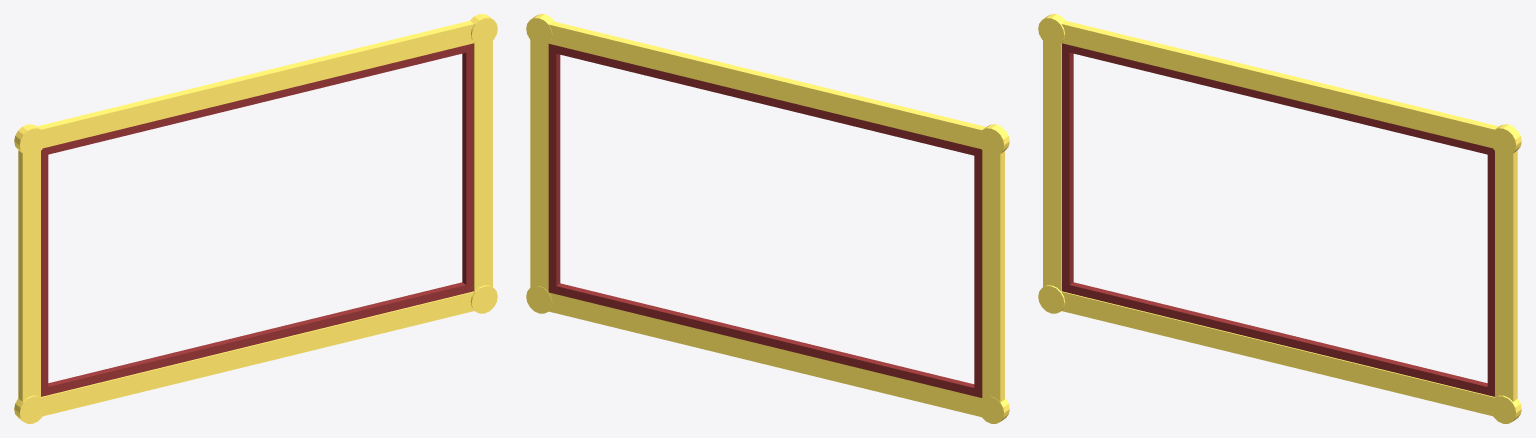
File: wall_lacquer_frame_3d.glb
The picture shows the model from 3 angles, left to right: view 1: azimuth 30°, elevation 25°; view 2: azimuth 150°, elevation 25°; view 3: azimuth 330°, elevation 25°; orthographic projection.
Parts seen in each view (by area): view 1: Cube.001, Cube, Cube.002, Cube.004, Cube.003, Cube.005, Cube.007, Cube.006, Cylinder.001, Cylinder, Cylinder.003, Cylinder.002; view 2: Cube.001, Cube, Cube.002, Cube.004, Cube.003, Cube.005, Cube.007, Cube.006, Cylinder.001, Cylinder, Cylinder.003, Cylinder.002; view 3: Cube.001, Cube, Cube.003, Cube.004, Cube.002, Cube.005, Cube.006, Cube.007, Cylinder.003, Cylinder.002, Cylinder.001, Cylinder.
Boxes of the visible parts, x1,y1,x2,y2 form: Cube.001: (37,20,474,148); Cube: (41,291,474,416); Cube.002: (18,150,40,401); Cube.004: (41,282,473,396); Cube.003: (474,40,492,291); Cube.005: (41,43,473,156); Cube.007: (462,51,473,284); Cube.006: (41,155,48,388); Cylinder.001: (14,124,45,155); Cylinder: (14,395,45,423); Cylinder.003: (470,14,497,45); Cylinder.002: (470,285,497,313); Cube.001: (549,21,985,149); Cube: (549,292,981,416); Cube.002: (982,150,1004,402); Cube.004: (548,283,982,397); Cube.003: (530,40,548,291); Cube.005: (548,44,982,157); Cube.007: (548,52,560,285); Cube.006: (974,156,982,389); Cylinder.001: (978,124,1009,155); Cylinder: (978,396,1009,423); Cylinder.003: (526,14,554,45); Cylinder.002: (526,286,552,313); Cube.001: (1061,20,1498,148); Cube: (1061,291,1494,416); Cube.003: (1495,150,1517,401); Cube.004: (1062,282,1494,396); Cube.002: (1043,40,1061,291); Cube.005: (1062,43,1494,156); Cube.006: (1062,51,1073,284); Cube.007: (1487,155,1494,388); Cylinder.003: (1490,124,1521,155); Cylinder.002: (1490,395,1521,423); Cylinder.001: (1038,14,1065,45); Cylinder: (1038,285,1065,313).
Size of the model in its own units: 3.66 by 2.16 by 0.075.
